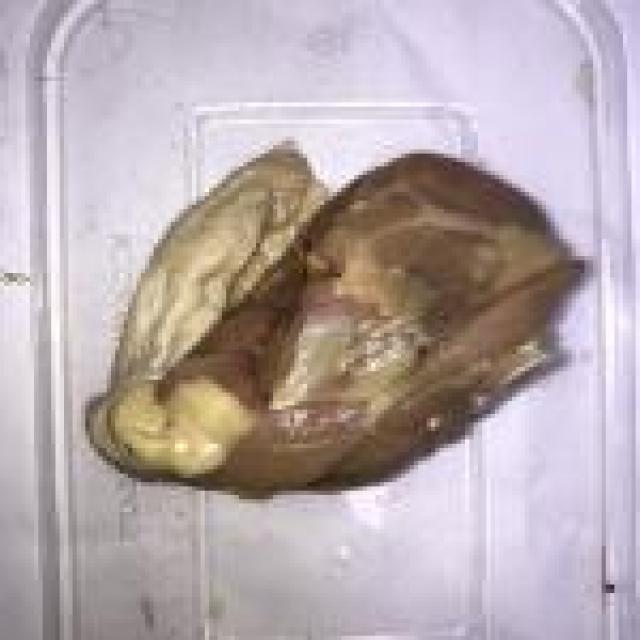breast: (82, 134, 580, 516)
